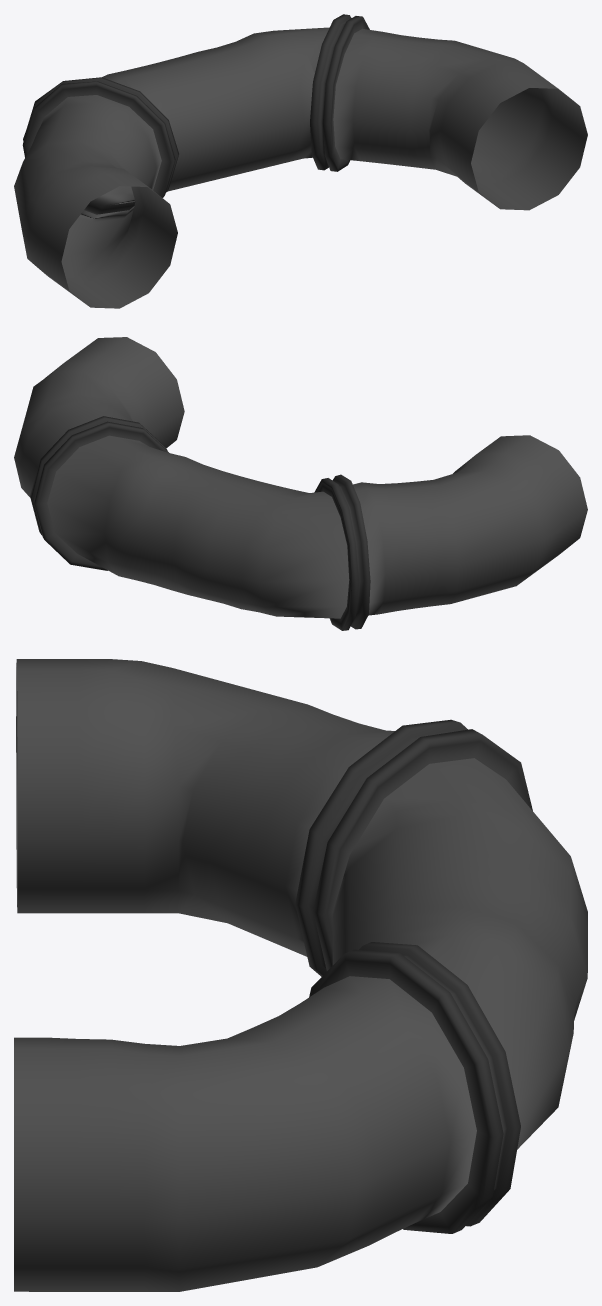
The model's file is Heaterpipe_U.fbx.
The picture shows the model from 3 angles, top to bottom: view 1: azimuth 30°, elevation 25°; view 2: azimuth 150°, elevation 25°; view 3: azimuth 270°, elevation 25°; orthographic projection. The views are drawn at different scales.
Parts seen in each view (by area): view 1: heater_pipe_180g; view 2: heater_pipe_180g; view 3: heater_pipe_180g.
Part boxes in pixels (box(x1,y1,x2,y2)): heater_pipe_180g: box(14, 14, 587, 308); heater_pipe_180g: box(14, 337, 587, 630); heater_pipe_180g: box(14, 659, 587, 1291).
Size of the model in its own units: 180 by 47.45 by 89.94.
1 material, 1 textured.
